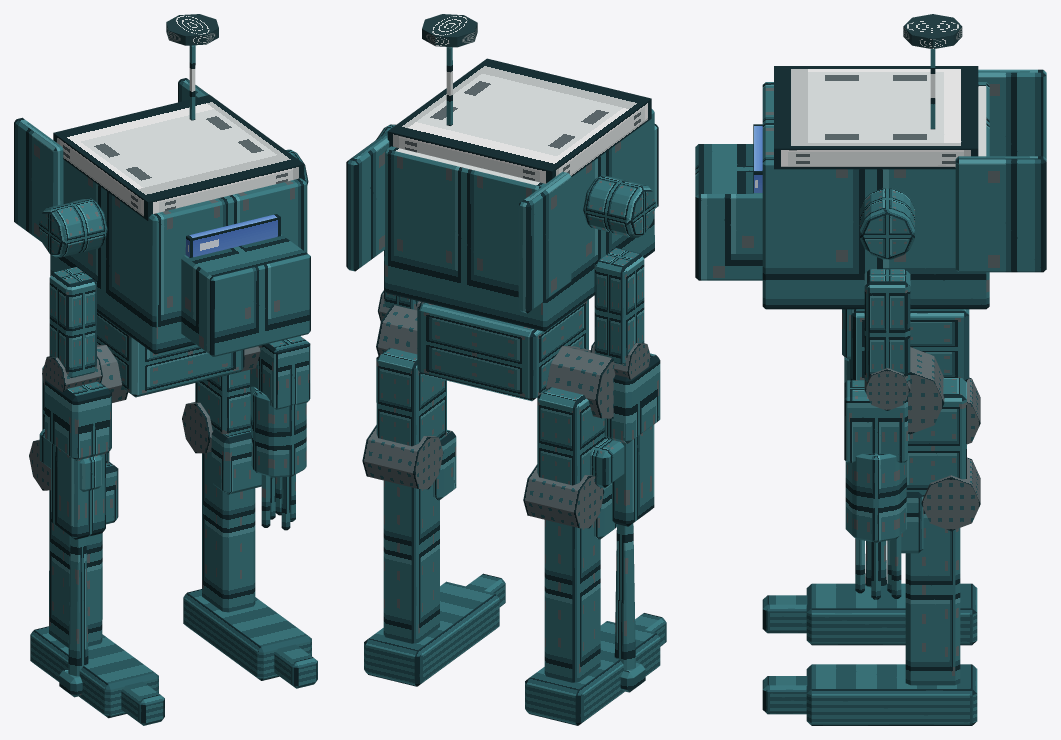
The model's file is mech_sniper.glb.
3 renders of one model, left to right at view 1: azimuth 30°, elevation 25°; view 2: azimuth 150°, elevation 25°; view 3: azimuth 270°, elevation 25°, orthographic. The views are drawn at different scales.
Visible parts, largest first — view 1: Torso-head, scout_stripe, R_forearm, L_forearm, L_shin, L_foot, R_foot, root_Pelvis, R_shin, R_upper_arm, R_shoulder, L_thigh (+6 smaller); view 2: Torso-head, scout_stripe, R_forearm, root_Pelvis, L_shin, R_shin, L_foot, R_foot, L_thigh, R_thigh, R_upper_arm, R_shoulder (+6 smaller); view 3: Torso-head, scout_stripe, L_foot, L_forearm, L_shin, R_foot, L_upper_arm, L_thigh, root_Pelvis, L_shoulder, L_back_knee, L_pelvis_thigh (+5 smaller).
Boxes of the visible parts, x1,y1,x2,y2 form: Torso-head: [14, 45, 310, 356]; scout_stripe: [53, 94, 304, 220]; R_forearm: [39, 380, 111, 697]; L_forearm: [250, 336, 310, 530]; L_shin: [202, 429, 261, 612]; L_foot: [183, 589, 317, 688]; R_foot: [30, 626, 164, 725]; root_Pelvis: [97, 312, 244, 397]; R_shin: [49, 461, 118, 647]; R_upper_arm: [49, 267, 96, 377]; R_shoulder: [38, 198, 107, 257]; L_thigh: [195, 369, 250, 434]; Torso-head: [346, 47, 658, 331]; scout_stripe: [387, 58, 651, 183]; R_forearm: [590, 353, 660, 692]; root_Pelvis: [417, 299, 588, 401]; L_shin: [383, 430, 456, 643]; R_shin: [544, 483, 617, 682]; L_foot: [364, 573, 505, 686]; R_foot: [525, 613, 666, 725]; L_thigh: [376, 348, 446, 446]; R_thigh: [537, 387, 606, 485]; R_upper_arm: [594, 247, 644, 364]; R_shoulder: [583, 175, 655, 237]; Torso-head: [695, 49, 1046, 309]; scout_stripe: [774, 66, 978, 169]; L_foot: [762, 664, 977, 725]; L_forearm: [844, 380, 907, 599]; L_shin: [901, 492, 960, 685]; R_foot: [762, 583, 977, 645]; L_upper_arm: [864, 269, 910, 381]; L_thigh: [906, 378, 966, 495]; root_Pelvis: [851, 309, 969, 380]; L_shoulder: [860, 188, 914, 259]; L_back_knee: [921, 457, 980, 530]; L_pelvis_thigh: [908, 347, 944, 434].
Size of the model in its own units: 8.18 by 19.47 by 9.27.
Materials: 1 (1 with a texture image).
